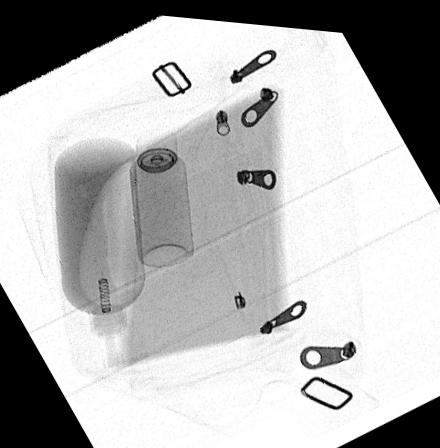Sprayer: (128, 124, 192, 264)
